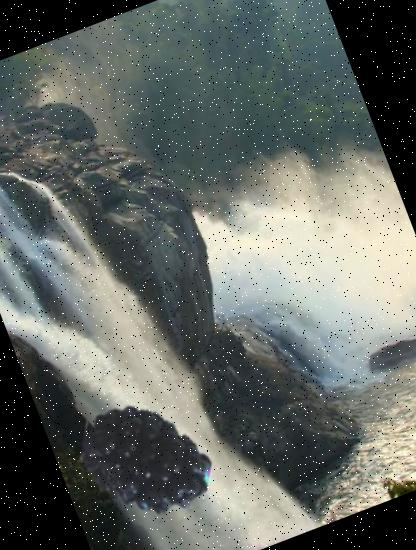Mulberry: (61, 375, 230, 544)
